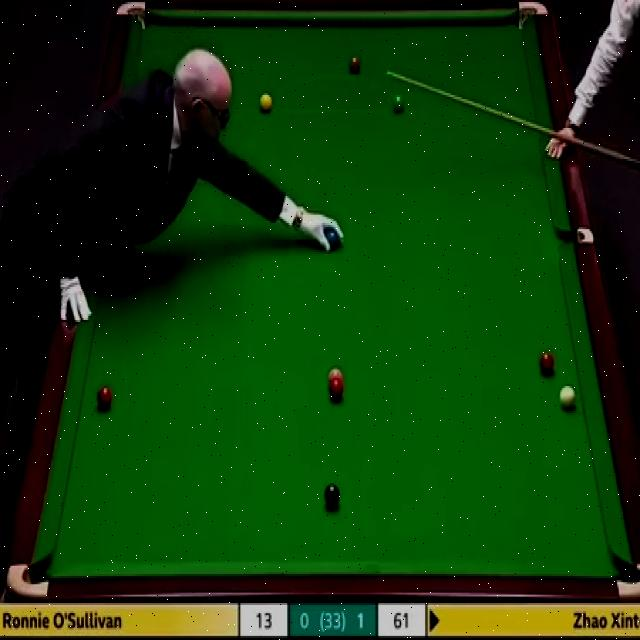black-ball: (323, 483, 342, 506)
blue-ball: (326, 230, 340, 250)
brown-ball: (348, 55, 362, 76)
green-ball: (391, 92, 405, 114)
pink-ball: (327, 367, 343, 382)
red-ball: (540, 351, 556, 377), (96, 386, 111, 410), (328, 380, 344, 399)
white-ball: (560, 385, 576, 413)
yellow-ball: (258, 92, 272, 113)
